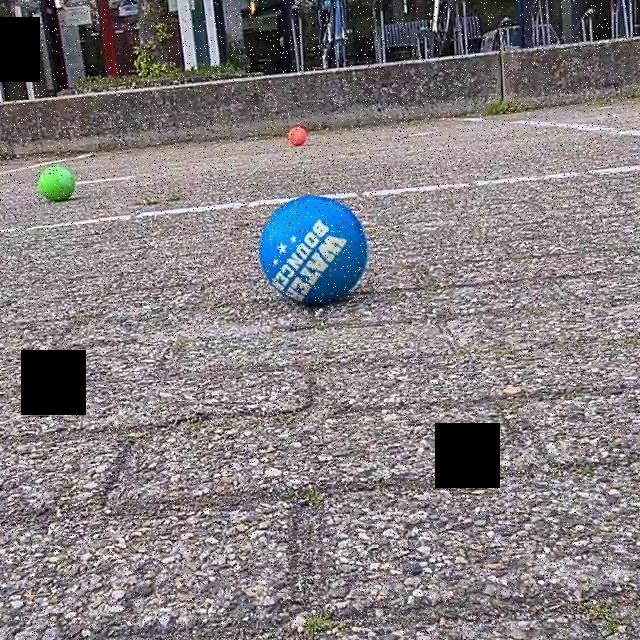ball: (35, 164, 78, 205), (286, 124, 308, 148)
